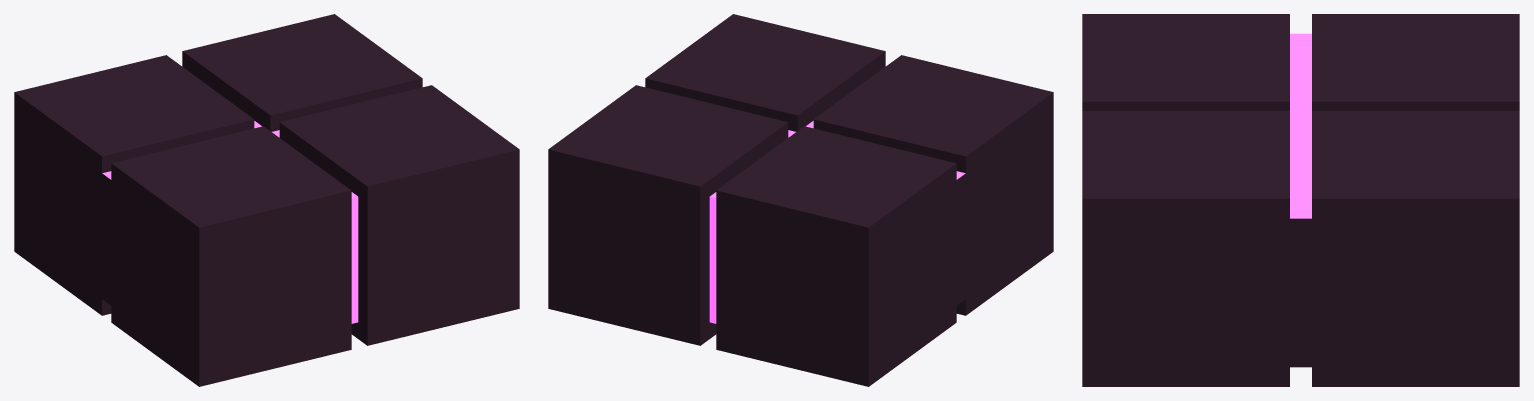
Rendered from Semi-block_4_corner.fbx.
3 views of the same model, side by side, from view 1: azimuth 30°, elevation 25°; view 2: azimuth 150°, elevation 25°; view 3: azimuth 270°, elevation 25° (orthographic). The views are drawn at different scales.
Parts seen in each view (by area): view 1: Semi-block_4_ring; view 2: Semi-block_4_ring; view 3: Semi-block_4_ring.
Boxes of the visible parts, x1,y1,x2,y2 form: Semi-block_4_ring: (14, 14, 519, 386); Semi-block_4_ring: (548, 14, 1053, 386); Semi-block_4_ring: (1082, 14, 1519, 386).
Size of the model in its own units: 1 by 0.475 by 1.
